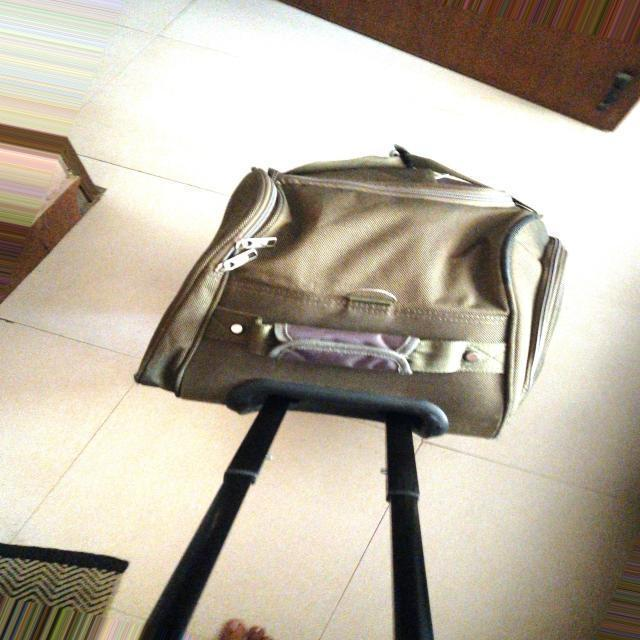Suitcase: (126, 154, 633, 634)
